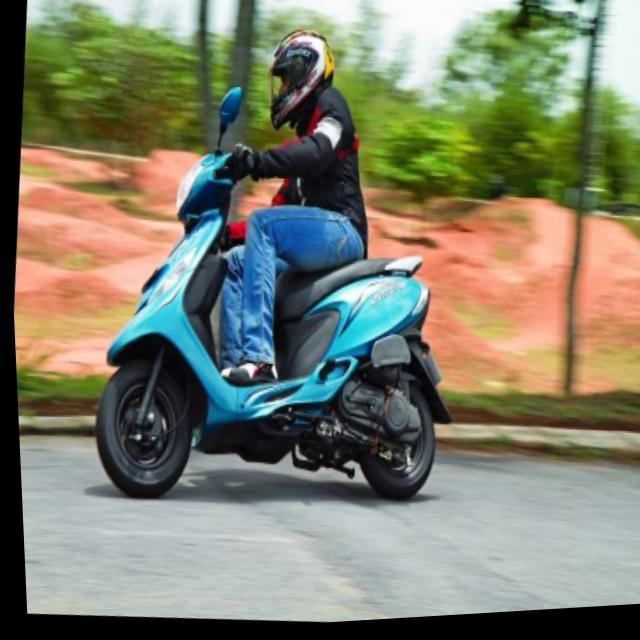Helmet: (259, 12, 341, 134)
